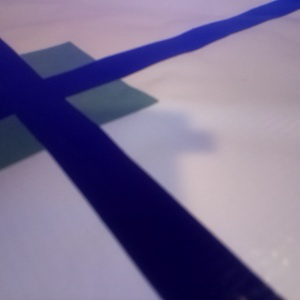bottom_left: (1, 78, 64, 168)
bottom_right: (22, 79, 157, 124)
top_right: (1, 42, 95, 88)
